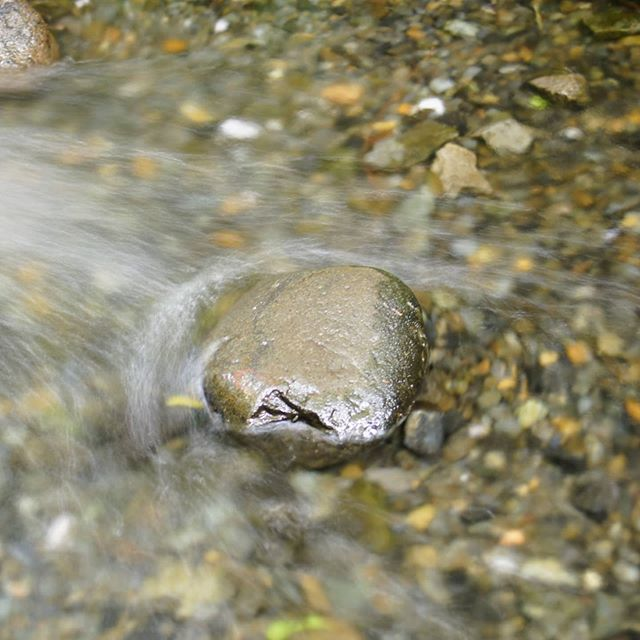rocks: (153, 238, 444, 486)
